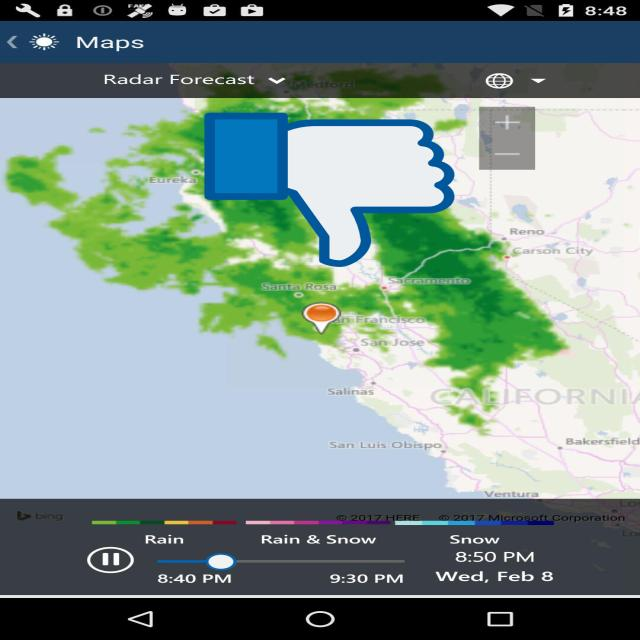obstruction: (205, 110, 454, 270)
